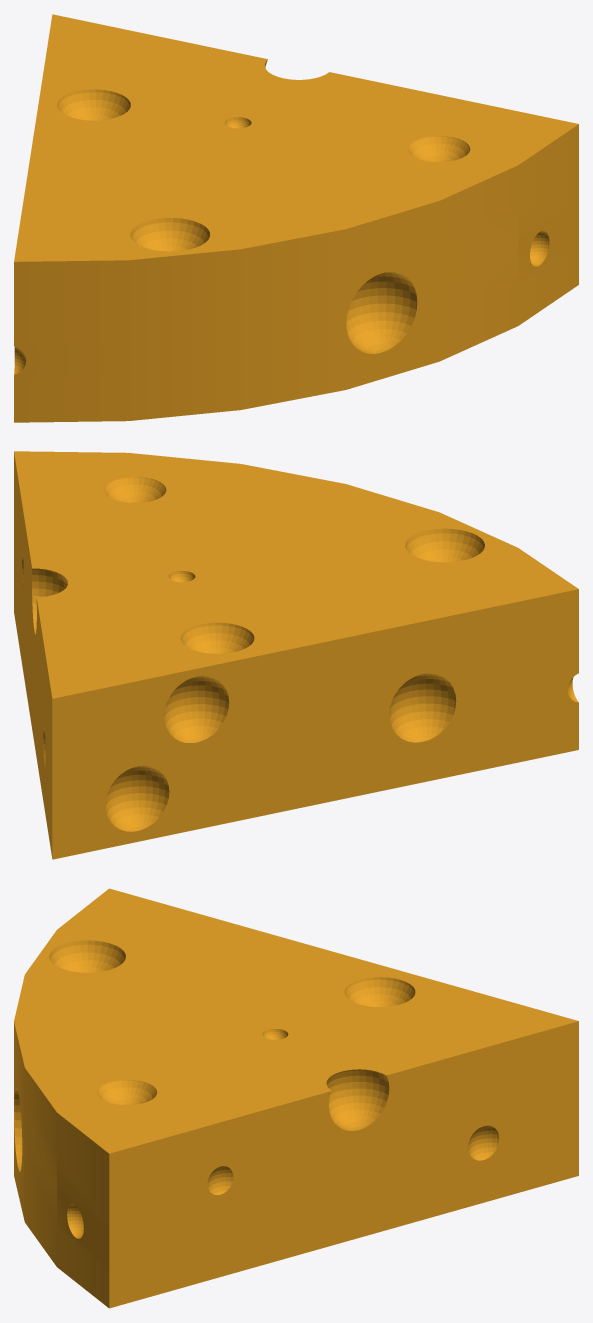
Rendered from Cheese.fbx.
3 renders of one model, top to bottom at view 1: azimuth 30°, elevation 25°; view 2: azimuth 150°, elevation 25°; view 3: azimuth 270°, elevation 25°, orthographic. The views are drawn at different scales.
Visible parts, largest first — view 1: Cheese; view 2: Cheese; view 3: Cheese.
Part boxes in pixels (<box>): Cheese: <box>14,14,578,422</box>; Cheese: <box>14,451,578,859</box>; Cheese: <box>14,888,578,1308</box>.
Size of the model in its own units: 21.16 by 77.78 by 70.
